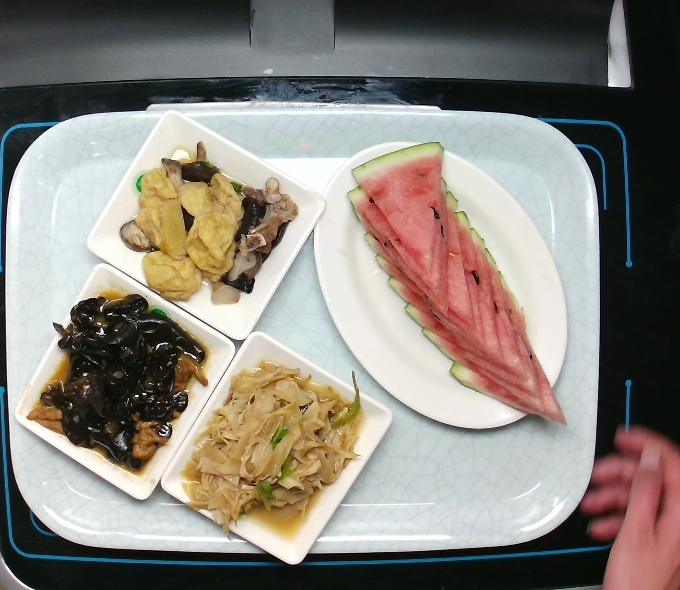wcq-LuSun: (180, 348, 370, 537)
wcq-MuErChaoRou: (29, 290, 214, 470)
wcq-XiGua: (339, 131, 572, 441)
wcq-YouPaoPaiGu: (121, 128, 306, 308)
